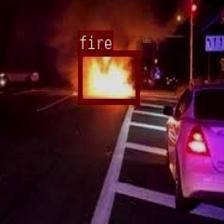fire: (78, 50, 139, 103)
